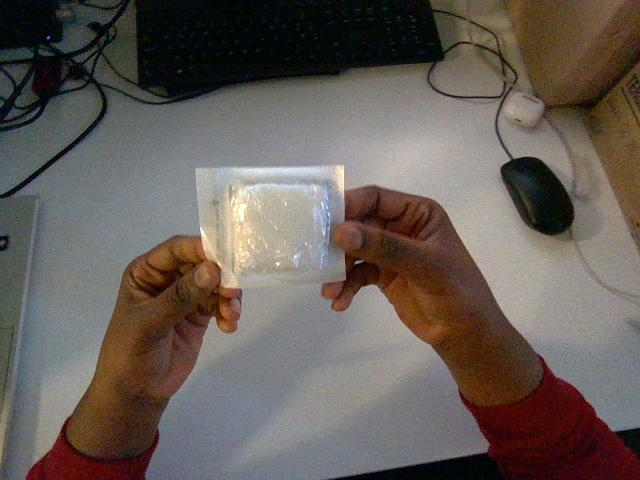gauze: (196, 165, 344, 287)
